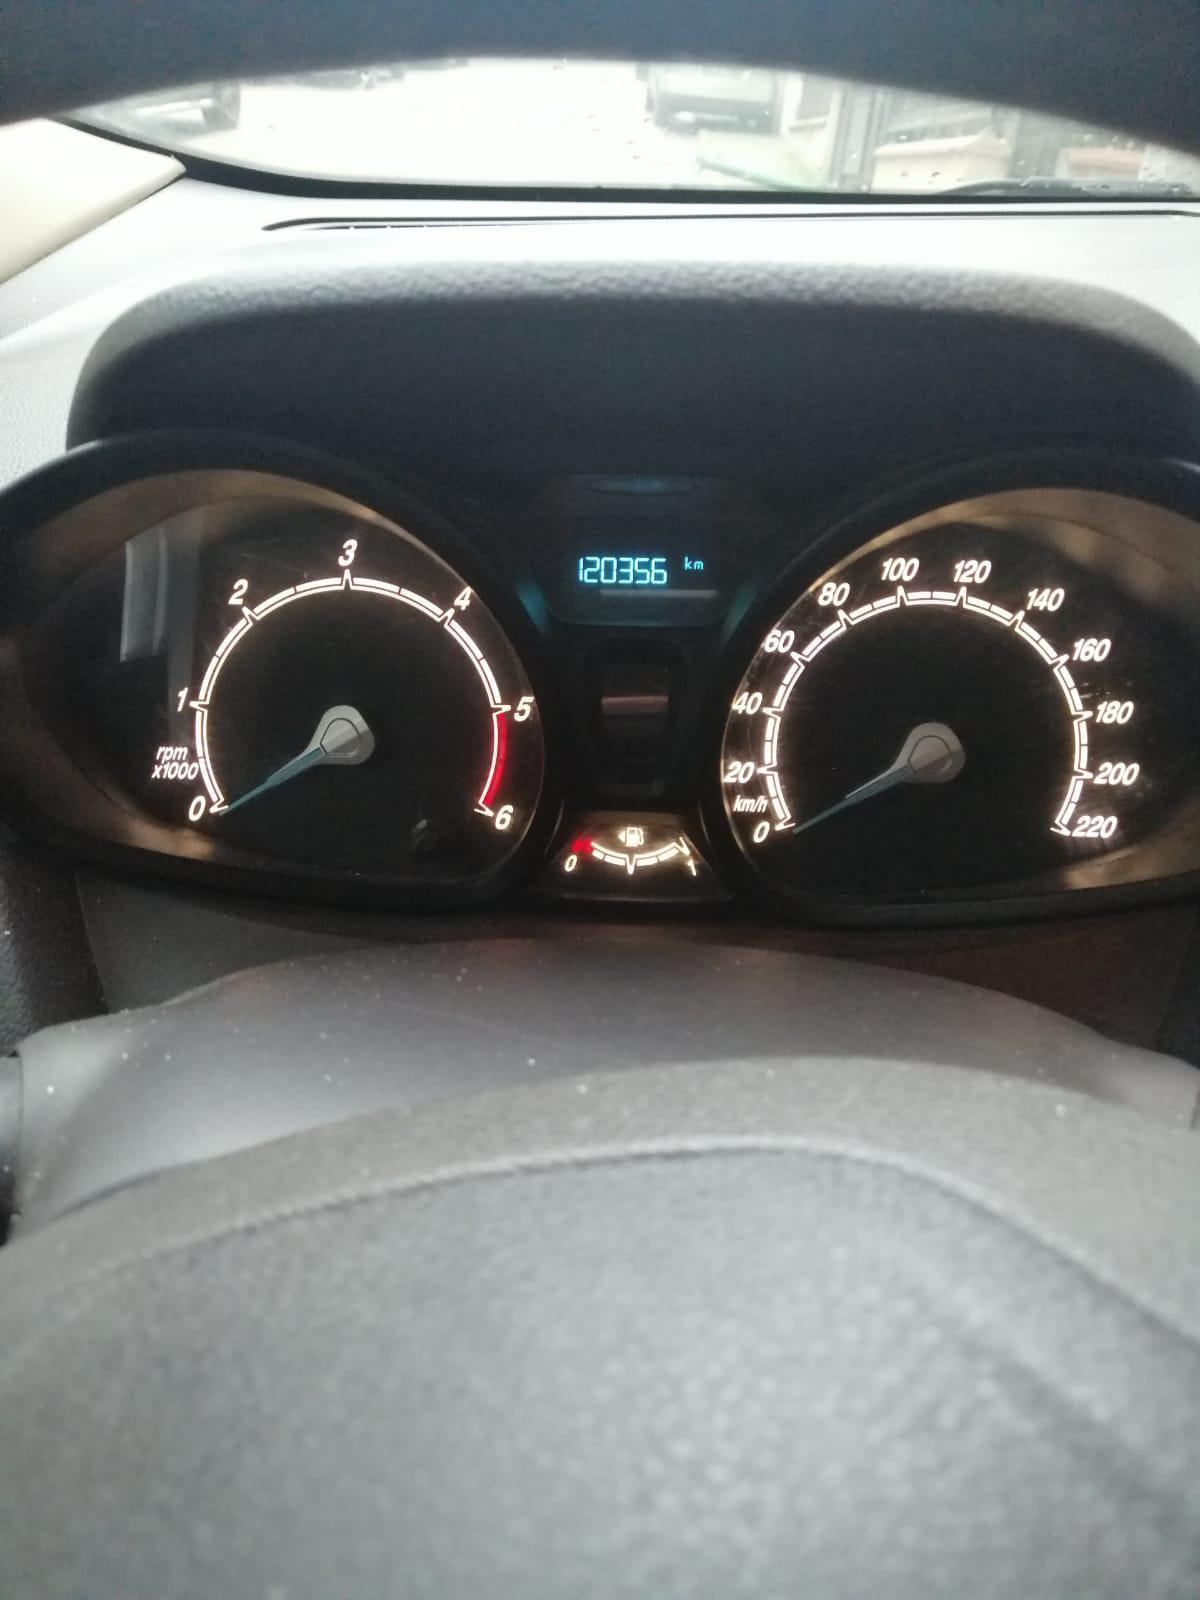0: (600, 556, 616, 585)
1: (577, 556, 584, 585)
2: (584, 556, 599, 585)
3: (618, 556, 633, 585)
5: (634, 556, 650, 585)
6: (650, 556, 668, 585)
X: (683, 556, 692, 571), (693, 559, 703, 571)
odometer: (561, 537, 718, 605)
